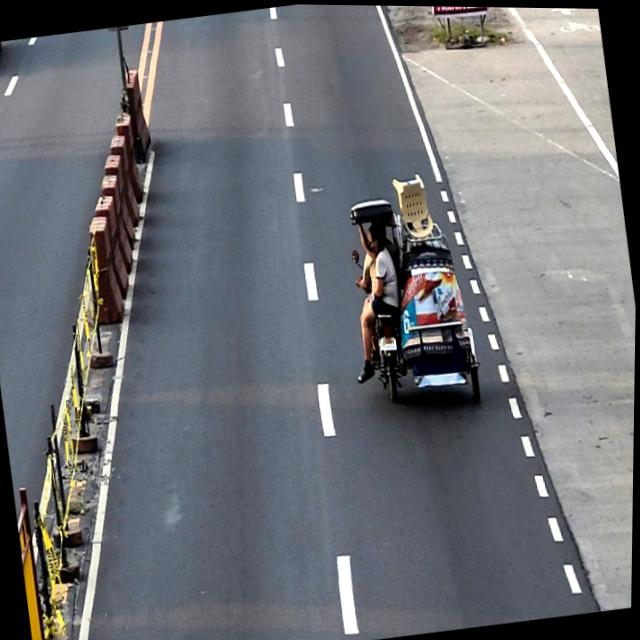License-Plate: (379, 333, 399, 352)
Tricycle: (343, 186, 489, 419)
